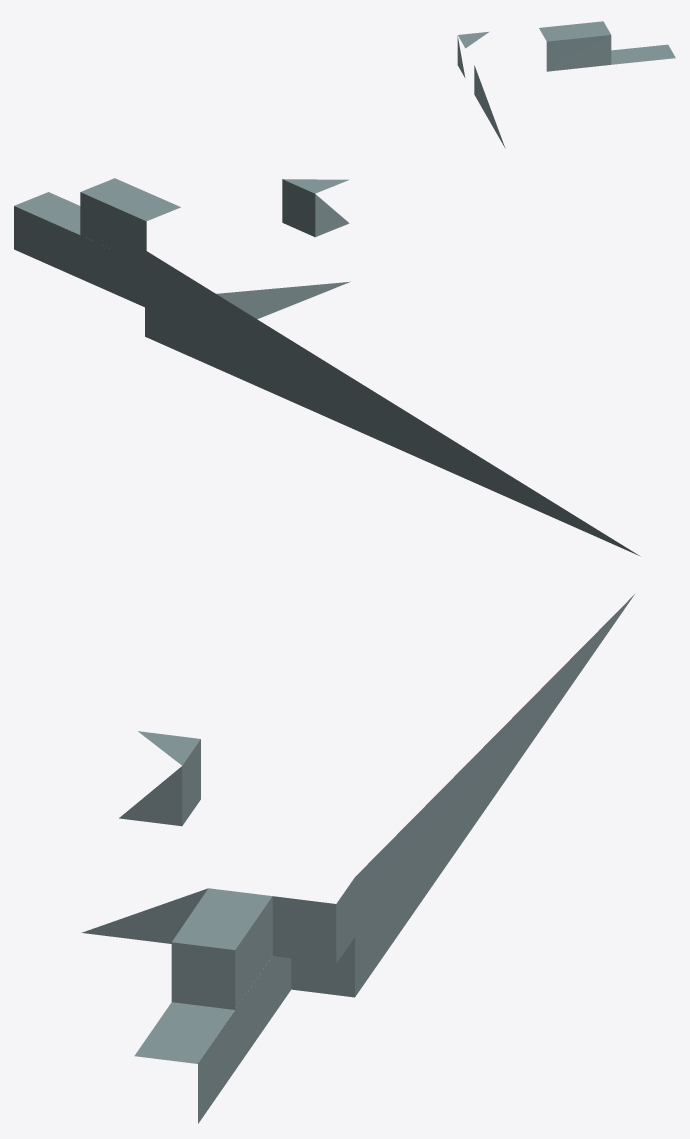
The picture shows the model from 3 angles, top to bottom: view 1: azimuth 30°, elevation 25°; view 2: azimuth 150°, elevation 25°; view 3: azimuth 270°, elevation 25°; orthographic projection. The views are drawn at different scales.
Parts seen in each view (by area): view 1: measured-industrial; view 2: measured-industrial; view 3: measured-industrial.
Part boxes in pixels (bbox=[...]): measured-industrial: bbox=[457, 21, 675, 148]; measured-industrial: bbox=[14, 178, 640, 556]; measured-industrial: bbox=[81, 594, 634, 1123].
Bounding box in the file's own units: 28.79 × 4.51 × 13.1.
